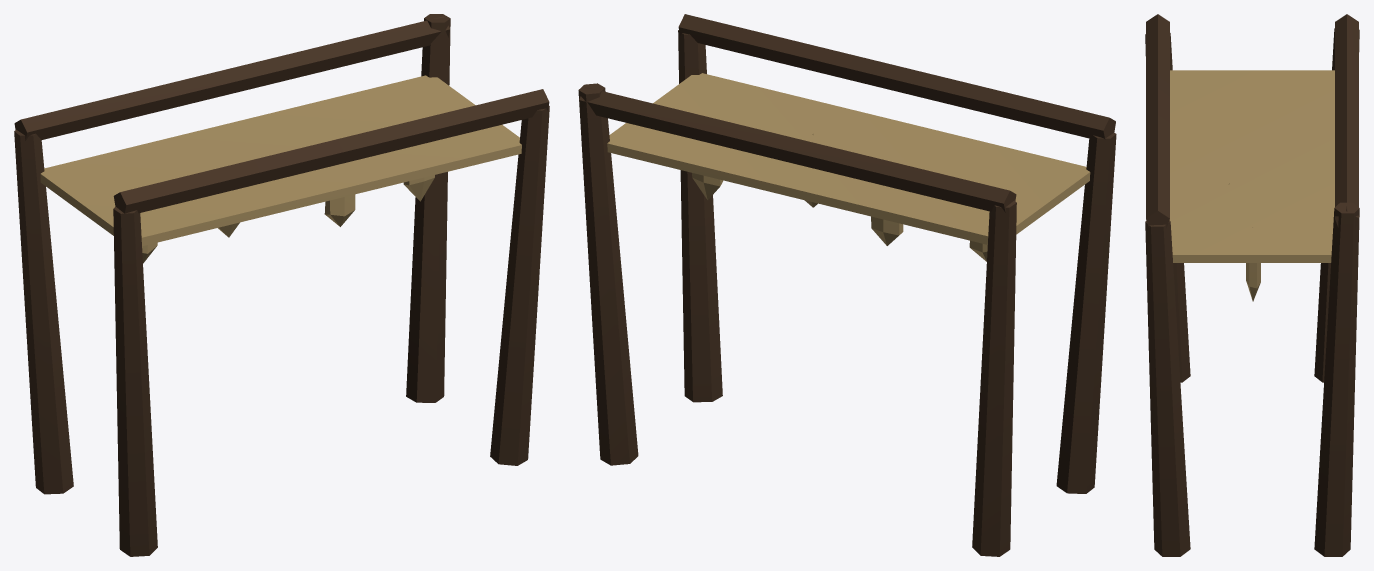
The model's file is caral_drying_rack_lod0.glb.
3 renders of one model, left to right at view 1: azimuth 30°, elevation 25°; view 2: azimuth 150°, elevation 25°; view 3: azimuth 270°, elevation 25°, orthographic. The views are drawn at different scales.
Parts seen in each view (by area): view 1: GEO-Props_drying_rack_LOD0; view 2: GEO-Props_drying_rack_LOD0; view 3: GEO-Props_drying_rack_LOD0.
Part boxes in pixels (x1=…): GEO-Props_drying_rack_LOD0: x1=14, y1=14, x2=549, y2=556; GEO-Props_drying_rack_LOD0: x1=578, y1=14, x2=1116, y2=556; GEO-Props_drying_rack_LOD0: x1=1145, y1=14, x2=1359, y2=556.
Size of the model in its own units: 1.3 by 1.07 by 0.5898.
